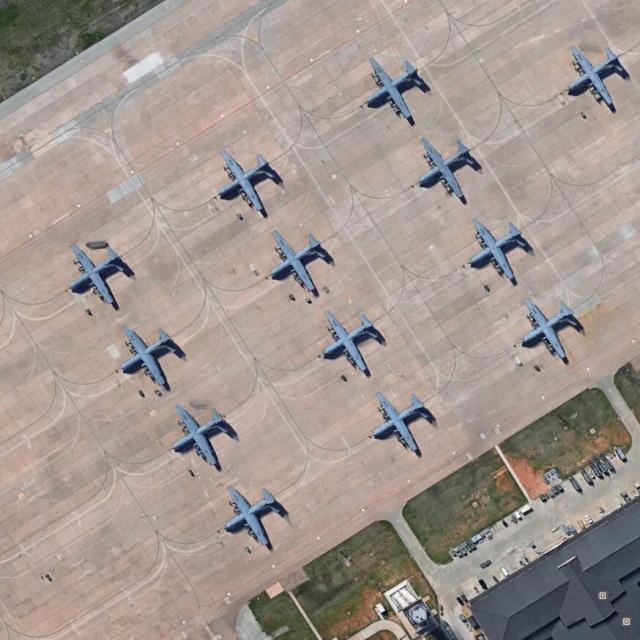fighter jet: (154, 410, 235, 477), (113, 323, 184, 397), (359, 55, 432, 126), (265, 229, 331, 306), (318, 311, 384, 387), (359, 390, 432, 458), (407, 140, 474, 212), (460, 219, 531, 286), (210, 148, 278, 215), (512, 298, 582, 363), (214, 486, 279, 554), (61, 240, 122, 312), (562, 50, 630, 114)
